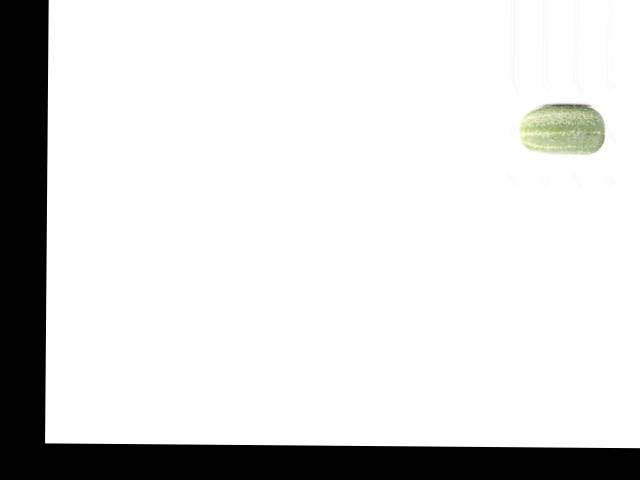cucumber: (520, 104, 606, 154)
